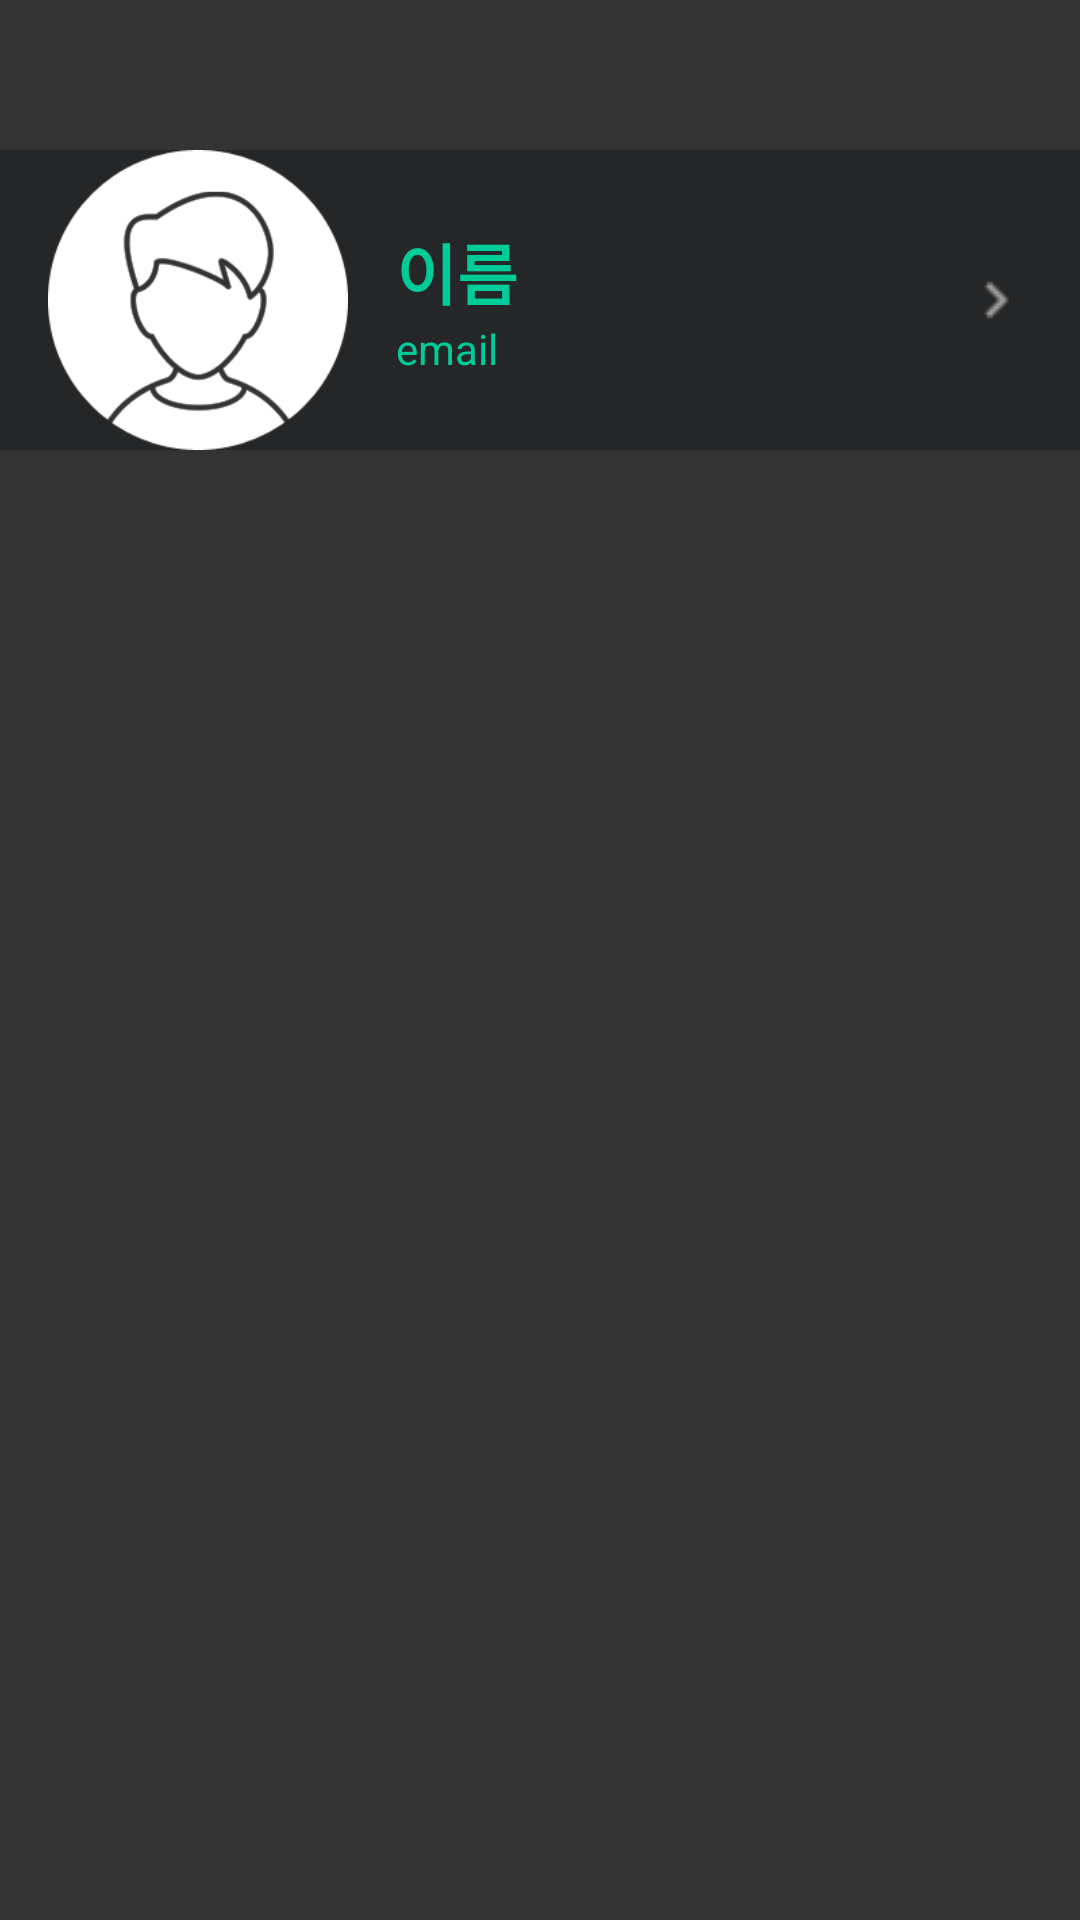

Where icons sit on this 1080×1920 app screen, as BBox(x1, y1, x2, y2):
arrow: BBox(985, 282, 1008, 318)
basicprofile: BBox(48, 150, 348, 450)
